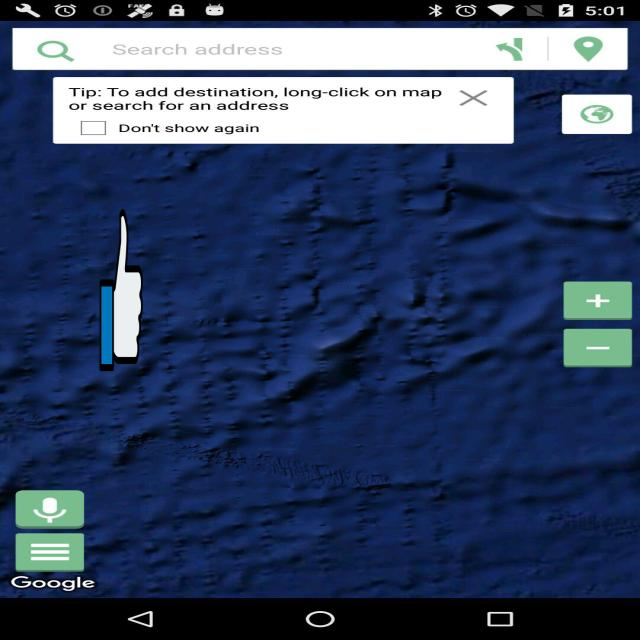privacy zuckering: (99, 205, 143, 375)
